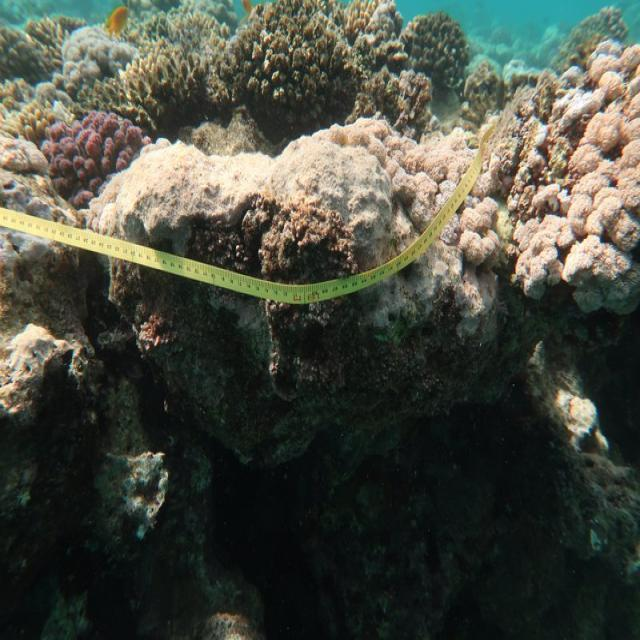Healthy Coral: (43, 107, 144, 206)
